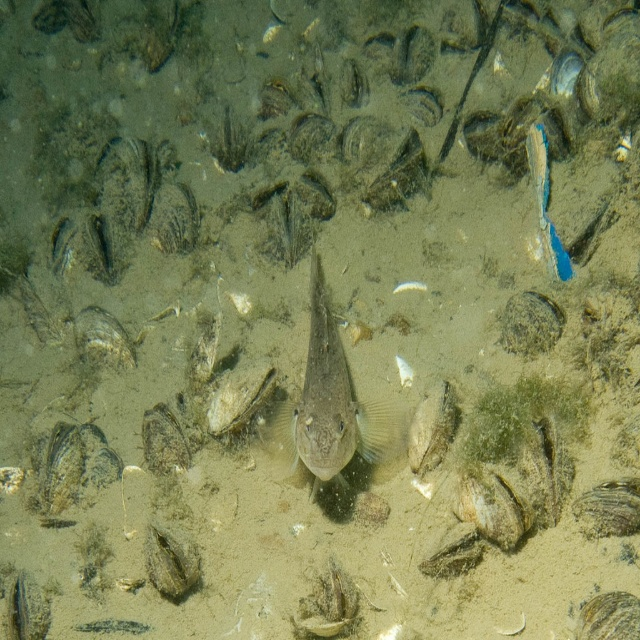Fish: (278, 251, 380, 534)
